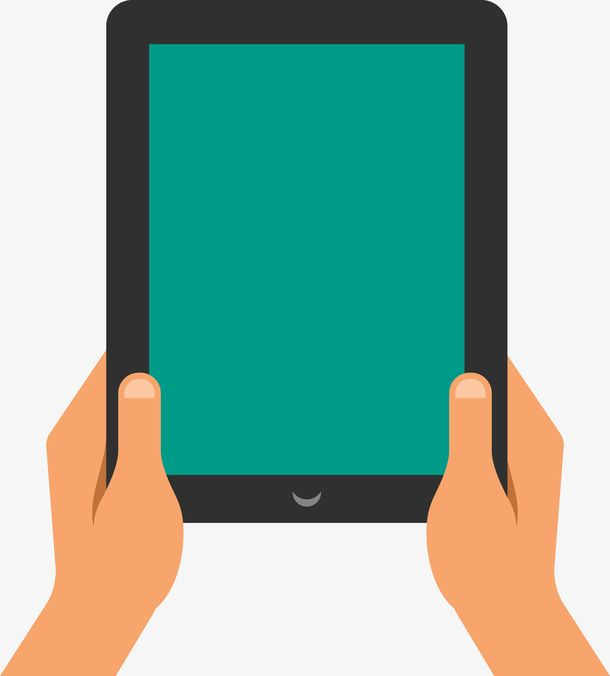pad: (34, 2, 577, 620)
